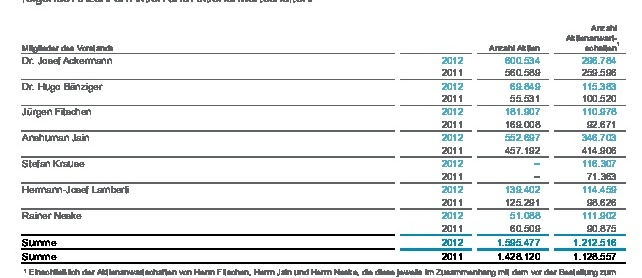table: (0, 0, 642, 278)
